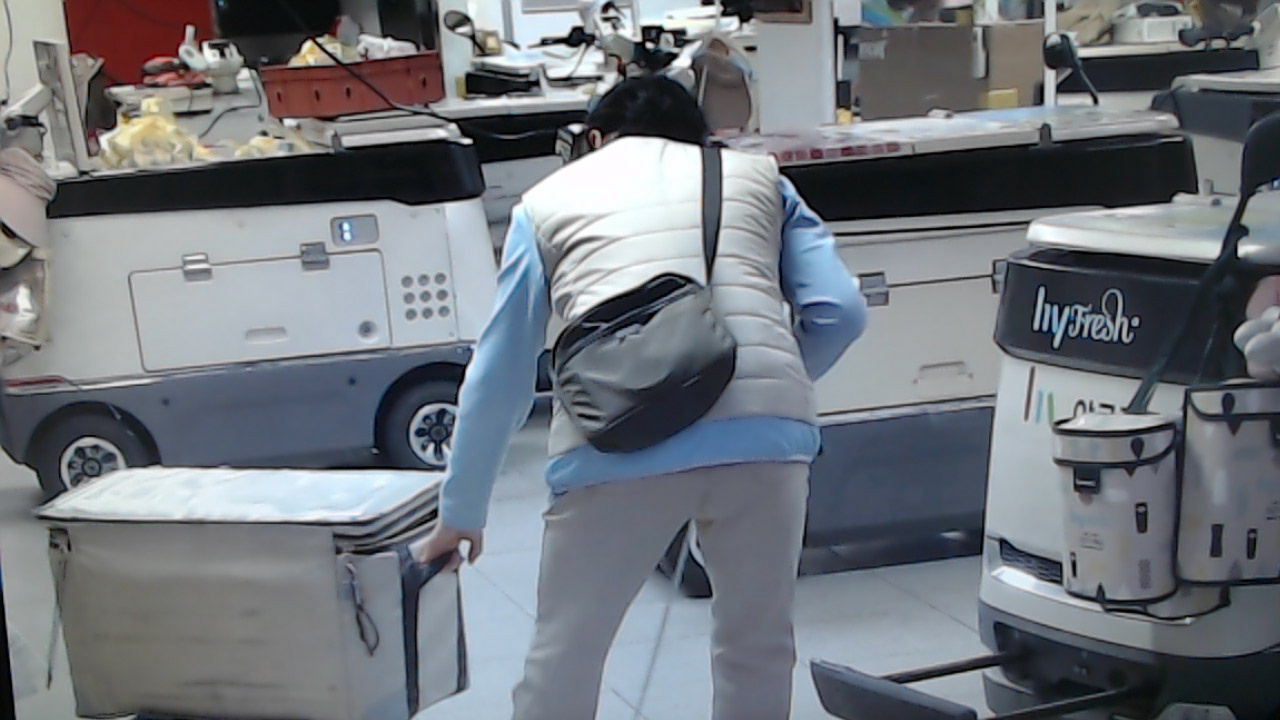Yakurut: (425, 73, 878, 720)
